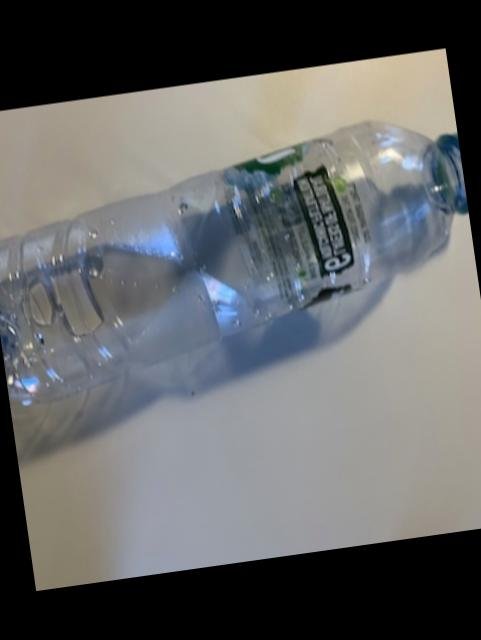plastic: (0, 124, 468, 404)
